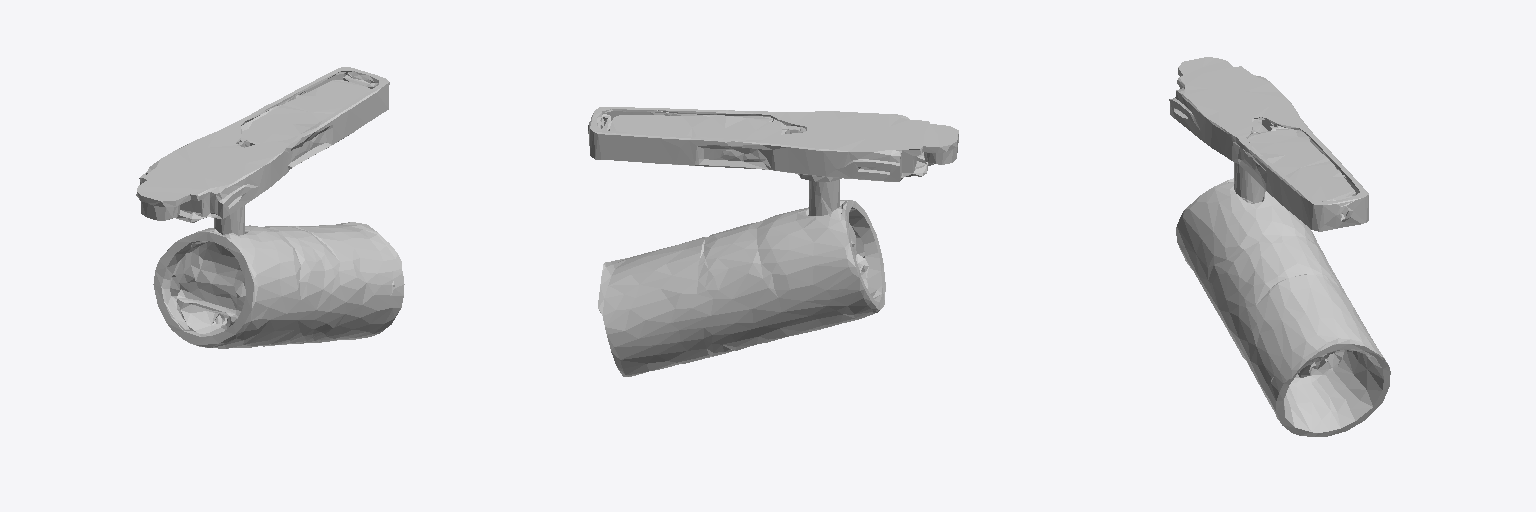
The model's file is luminaria9.obj.
3 renders of one model, left to right at view 1: azimuth 30°, elevation 25°; view 2: azimuth 150°, elevation 25°; view 3: azimuth 270°, elevation 25°, orthographic.
Visible parts, largest first — view 1: luminaria9; view 2: luminaria9; view 3: luminaria9.
Boxes of the visible parts, box(x1,y1,x2,y2) form: luminaria9: box(136, 67, 404, 348); luminaria9: box(588, 107, 958, 376); luminaria9: box(1169, 57, 1390, 436).
Size of the model in its own units: 2.04 by 1.61 by 1.29.